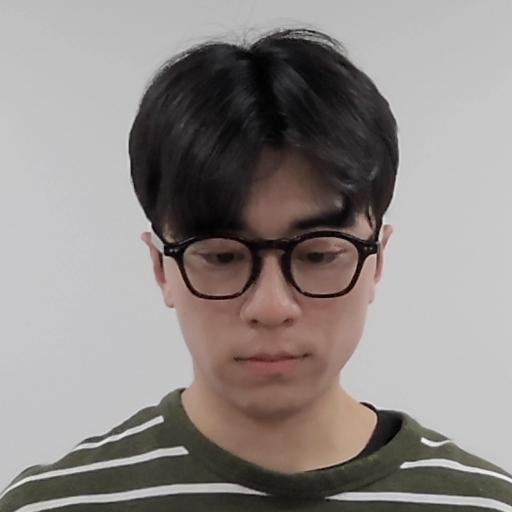no_glasses: (125, 34, 409, 393)
